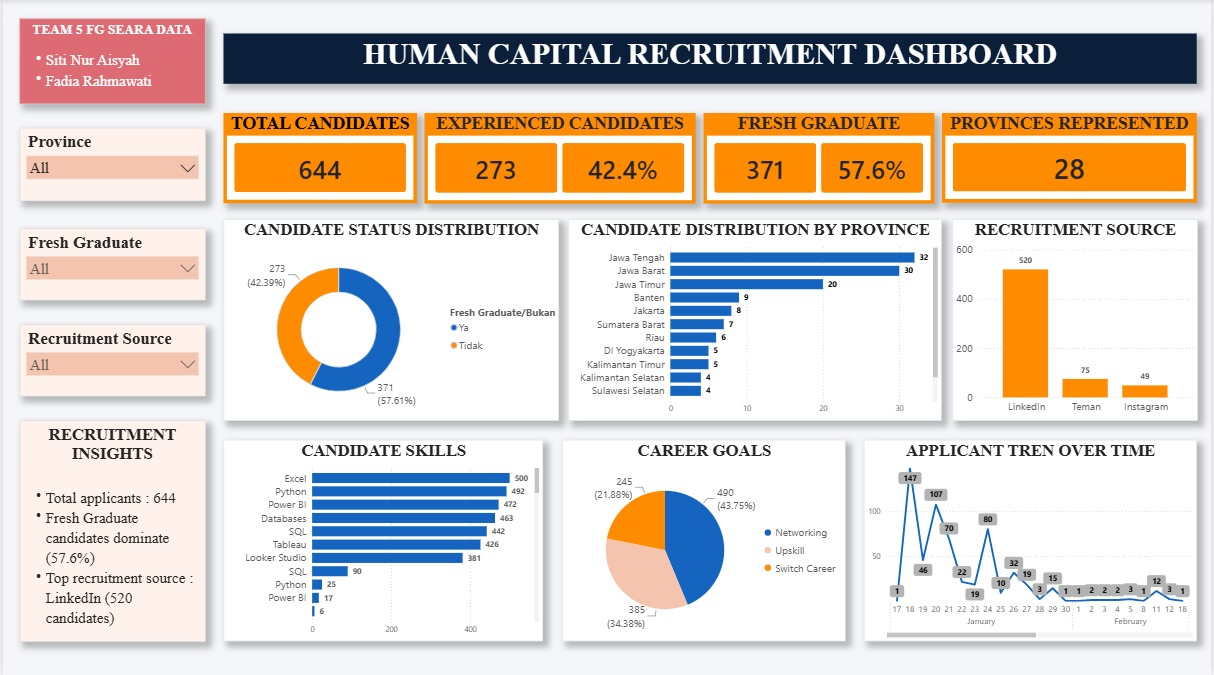

The dashboard page shown, as its layout file describes it:
{"tool":"powerbi","page":{"name":"Page 1","canvas":[1920,1080],"ordinal":0},"visuals":[{"type":"textbox","box":[347.3,55.9,1547.2,80.2],"z":0},{"type":"textbox","box":[26,32,296,136],"z":1000},{"type":"cardVisual","title":"TOTAL CANDIDATES","fields":{"Data":["Database_Seara_Data_Clean (2).Total Kandidat"]},"box":[344.9,182.2,323,140.9],"z":2000},{"type":"cardVisual","title":"EXPERIENCED CANDIDATES","fields":{"Data":["Database_Seara_Data_Clean (2).Berpengalaman","Database_Seara_Data_Clean (2).% Berpengalaman"]},"box":[689.8,184.6,459.1,138.4],"z":3000},{"type":"cardVisual","title":"FRESH GRADUATE","fields":{"Data":["Database_Seara_Data_Clean (2).Fresh Graduate","Database_Seara_Data_Clean (2).%Fresh Graduate"]},"box":[1168.8,185,373.8,140],"z":4000},{"type":"cardVisual","title":"TOTAL PROVINCES","fields":{"Data":["Database_Seara_Data_Clean (2).Total Provinsi"]},"box":[1561.2,185,331.2,140],"z":5000},{"type":"clusteredBarChart","title":"CANDIDATE SKILLS","fields":{"Category":["Database_Seara_Data_Clean (2).Attribute"],"Y":["Database_Seara_Data_Clean (2).Total Kandidat Memiliki Skill"]},"box":[344.9,701.9,553.8,344.9],"z":6000},{"type":"donutChart","title":"CANDIDATE STATUS DISTRIBUTION","fields":{"Category":["Database_Seara_Data_Clean (2).Apakah Anda Memiliki Pengalaman Lebih Dari 1 Tahun / Fresh Graduate"],"Y":["Database_Seara_Data_Clean (2).Total Kandidat"]},"box":[344.9,364.3,490.6,310.9],"z":7000},{"type":"clusteredBarChart","title":"CANDIDATE DISTRIBUTION BY PROVINCE","fields":{"Category":["Database_Seara_Data_Clean (2).Provinsi"],"Y":["Database_Seara_Data_Clean (2).Total Kandidat"]},"box":[847.7,364.3,636.4,310.9],"z":8000},{"type":"clusteredColumnChart","title":"RECRUITMENT SOURCE","fields":{"Category":["Database_Seara_Data_Clean (2).Mengetahui Perusahaan Dari Mana?"],"Y":["Database_Seara_Data_Clean (2).Total Kandidat"]},"box":[1505.9,364.3,388.6,310.9],"z":9000},{"type":"pieChart","title":"CAREER GOALS","fields":{"Category":["Database_Seara_Data_Clean (2).Target Masuk Perusahaan"],"Y":["Database_Seara_Data_Clean (2).Total Kandidat"]},"box":[920.5,701.9,434.8,344.9],"z":10000},{"type":"lineChart","title":"APPLICANT TREND OVER TIME","fields":{"Y":["Database_Seara_Data_Clean (2).Total Kandidat"],"Category":["Database_Seara_Data_Clean (2).Timestamp.Variation.Date Hierarchy.Month","Database_Seara_Data_Clean (2).Timestamp.Variation.Date Hierarchy.Day"]},"box":[1372.3,701.9,522.2,344.9],"z":11000},{"type":"slicer","fields":{"Values":["Database_Seara_Data_Clean (2).Provinsi"]},"box":[26.7,208.9,296.3,121.4],"z":12000},{"type":"slicer","fields":{"Values":["Database_Seara_Data_Clean (2).Apakah Anda Memiliki Pengalaman Lebih Dari 1 Tahun / Fresh Graduate"]},"box":[26.7,366.8,296.3,121.4],"z":13000},{"type":"slicer","fields":{"Values":["Database_Seara_Data_Clean (2).Mengetahui Perusahaan Dari Mana?"]},"box":[26.7,527.1,296.3,121.4],"z":14000},{"type":"textbox","box":[26.7,694.6,296,352],"z":15000}]}

Visuals, with their boxes in screenshot pixels (x1, y1, x2, y2), scaled from the page's 1920x1080 canvas onto the 1214x675 screenshot:
textbox: l=220, t=35, r=1198, b=85
textbox: l=16, t=20, r=204, b=105
"TOTAL CANDIDATES" cardVisual: l=218, t=114, r=422, b=202
"EXPERIENCED CANDIDATES" cardVisual: l=436, t=115, r=726, b=202
"FRESH GRADUATE" cardVisual: l=739, t=116, r=975, b=203
"TOTAL PROVINCES" cardVisual: l=987, t=116, r=1197, b=203
"CANDIDATE SKILLS" clusteredBarChart: l=218, t=439, r=568, b=654
"CANDIDATE STATUS DISTRIBUTION" donutChart: l=218, t=228, r=528, b=422
"CANDIDATE DISTRIBUTION BY PROVINCE" clusteredBarChart: l=536, t=228, r=938, b=422
"RECRUITMENT SOURCE" clusteredColumnChart: l=952, t=228, r=1198, b=422
"CAREER GOALS" pieChart: l=582, t=439, r=857, b=654
"APPLICANT TREND OVER TIME" lineChart: l=868, t=439, r=1198, b=654
slicer - Database_Seara_Data_Clean (2).Provinsi: l=17, t=131, r=204, b=206
slicer - Database_Seara_Data_Clean (2).Apakah Anda Memiliki Pengalaman Lebih Dari 1 Tahun / Fresh Graduate: l=17, t=229, r=204, b=305
slicer - Database_Seara_Data_Clean (2).Mengetahui Perusahaan Dari Mana?: l=17, t=329, r=204, b=405
textbox: l=17, t=434, r=204, b=654
